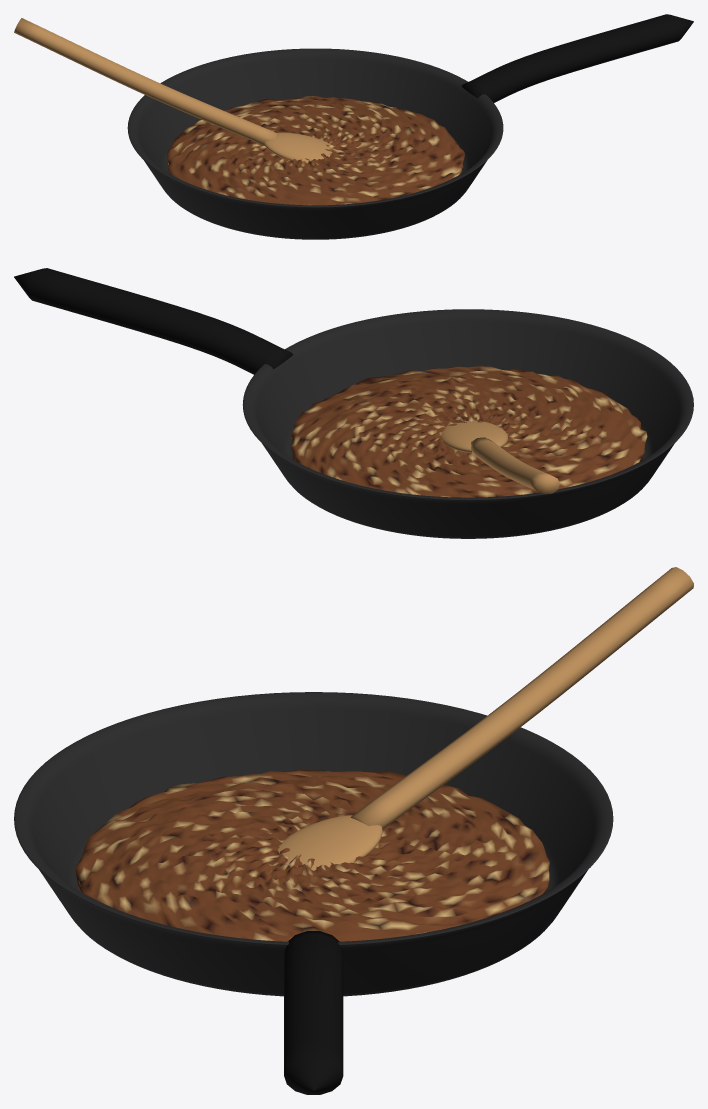
File: paso-2.glb
3 renders of one model, top to bottom at view 1: azimuth 30°, elevation 25°; view 2: azimuth 150°, elevation 25°; view 3: azimuth 270°, elevation 25°, orthographic. The views are drawn at different scales.
Parts seen in each view (by area): view 1: paso-2-0, paso-2-2, paso-2-1, paso-2-3, paso-2-4; view 2: paso-2-0, paso-2-2, paso-2-1, paso-2-3, paso-2-4; view 3: paso-2-0, paso-2-2, paso-2-3, paso-2-1, paso-2-4.
Boxes of the visible parts, left/top/right/bottom form: paso-2-0: left=127, top=48, right=503, bottom=239; paso-2-2: left=167, top=96, right=464, bottom=205; paso-2-1: left=461, top=14, right=693, bottom=102; paso-2-3: left=14, top=18, right=278, bottom=145; paso-2-4: left=264, top=132, right=333, bottom=163; paso-2-0: left=242, top=309, right=693, bottom=538; paso-2-2: left=290, top=366, right=647, bottom=497; paso-2-1: left=14, top=268, right=293, bottom=374; paso-2-3: left=471, top=437, right=559, bottom=494; paso-2-4: left=440, top=420, right=508, bottom=452; paso-2-0: left=14, top=692, right=613, bottom=996; paso-2-2: left=75, top=770, right=549, bottom=941; paso-2-3: left=350, top=567, right=693, bottom=829; paso-2-1: left=284, top=931, right=343, bottom=1094; paso-2-4: left=277, top=815, right=382, bottom=870.
Bounding box in the file's own units: 0.4421 × 0.0868 × 0.288.
